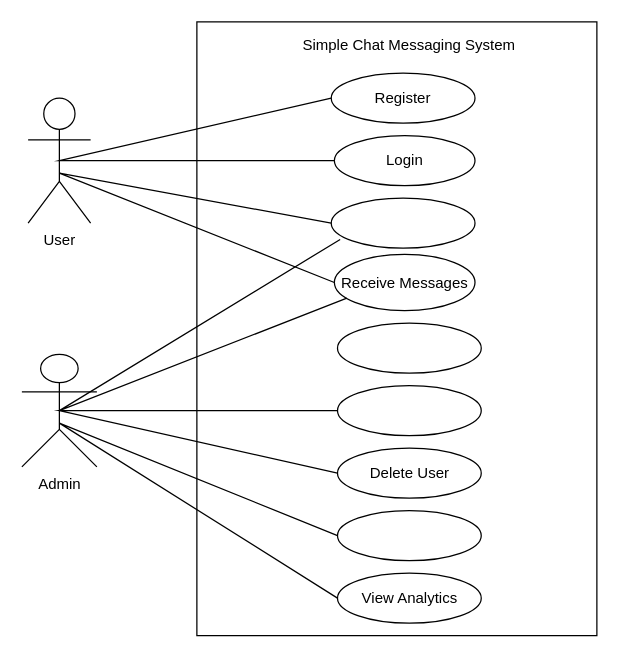
Some shapes in this 619 by 658 pixel diagram are drawn without their labels. Each missing label, with the box of its shape:
Add User: (336, 384, 481, 436)
Send Message: (330, 197, 475, 248)
View Message History: (336, 509, 481, 561)
View Users: (336, 322, 481, 373)
